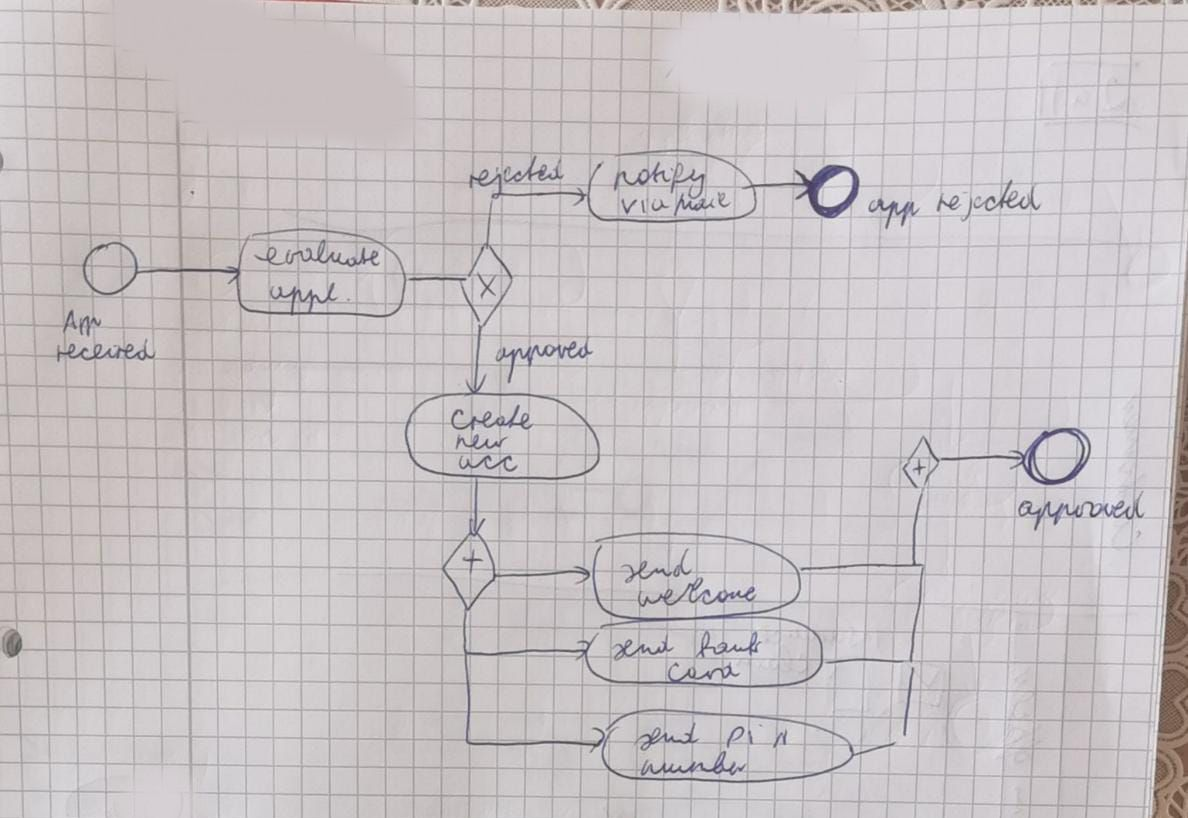App: (63, 309, 102, 337)
Pin: (727, 721, 793, 752)
acc.: (453, 448, 531, 476)
app: (859, 184, 932, 231)
appl.: (264, 272, 360, 309)
approved: (491, 331, 601, 385), (1017, 493, 1148, 532)
bank: (692, 624, 762, 658)
card: (655, 659, 741, 684)
create: (449, 405, 533, 434)
evaluate: (249, 237, 385, 271)
mail: (679, 189, 732, 216)
new: (449, 427, 517, 456)
notify: (613, 157, 707, 191)
number: (638, 753, 748, 782)
received: (54, 339, 160, 364)
rejected: (924, 177, 1044, 219), (464, 158, 578, 192)
send: (619, 546, 700, 585), (633, 722, 716, 753), (608, 632, 676, 663)
via: (612, 189, 674, 221)
welcome: (631, 579, 765, 612)
